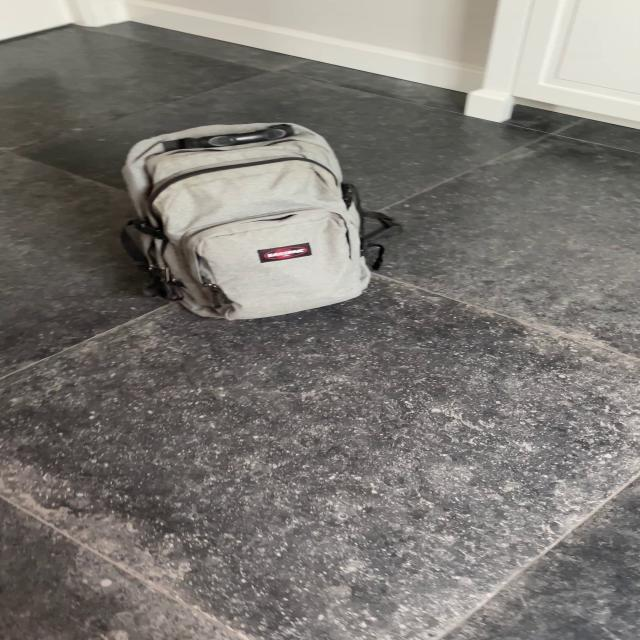backpack: (108, 114, 385, 324)
